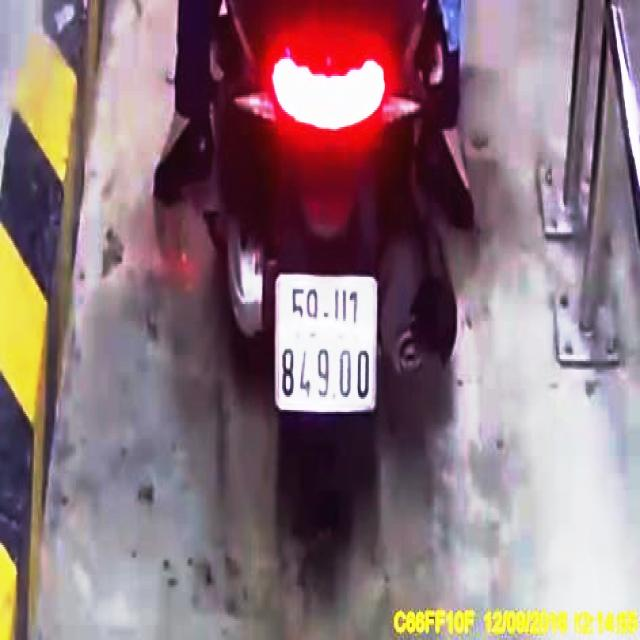license_plate: (278, 277, 377, 413)
